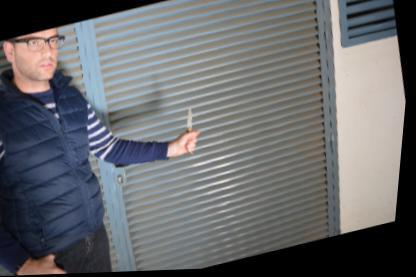knife: (178, 104, 206, 158)
